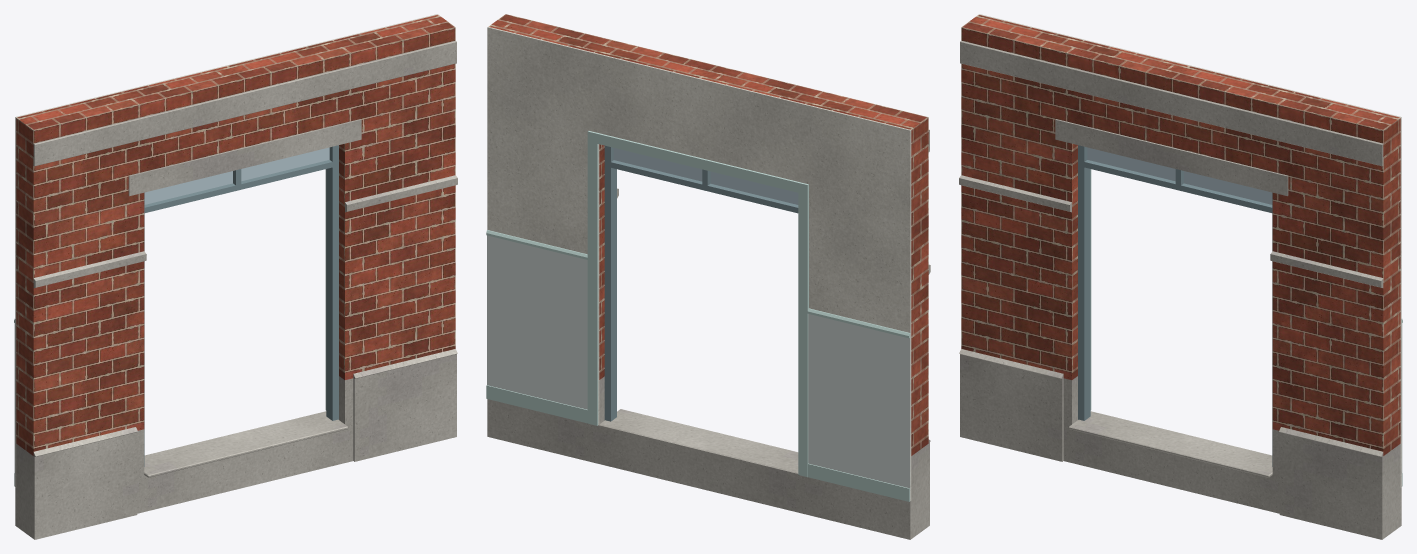
File: w_entry.glb
The picture shows the model from 3 angles, left to right: view 1: azimuth 30°, elevation 25°; view 2: azimuth 150°, elevation 25°; view 3: azimuth 330°, elevation 25°; orthographic projection.
Parts seen in each view (by area): view 1: w_entry_brick, w_entry_concrete, w_entry_frame, w_entry_glass, w_entry_plaster; view 2: w_entry_plaster, w_entry_tile_w, w_entry_concrete, w_entry_brick, w_entry_tile_c, w_entry_frame, w_entry_glass; view 3: w_entry_brick, w_entry_concrete, w_entry_frame, w_entry_glass, w_entry_plaster.
Boxes of the visible parts, x1=… form: w_entry_brick: x1=16, y1=14, x2=455, y2=455; w_entry_concrete: x1=15, y1=40, x2=457, y2=539; w_entry_frame: x1=144, y1=145, x2=338, y2=466; w_entry_glass: x1=144, y1=147, x2=329, y2=204; w_entry_plaster: x1=15, y1=14, x2=437, y2=487; w_entry_plaster: x1=487, y1=27, x2=911, y2=500; w_entry_tile_w: x1=487, y1=235, x2=910, y2=500; w_entry_concrete: x1=487, y1=129, x2=930, y2=539; w_entry_brick: x1=488, y1=14, x2=928, y2=455; w_entry_tile_c: x1=486, y1=131, x2=910, y2=501; w_entry_frame: x1=604, y1=145, x2=798, y2=421; w_entry_glass: x1=613, y1=148, x2=798, y2=204; w_entry_brick: x1=961, y1=14, x2=1400, y2=455; w_entry_concrete: x1=959, y1=40, x2=1401, y2=539; w_entry_frame: x1=1078, y1=145, x2=1272, y2=466; w_entry_glass: x1=1087, y1=147, x2=1272, y2=204; w_entry_plaster: x1=979, y1=14, x2=1401, y2=487.
Bounding box in the file's own units: 4 × 3.7 × 0.38.
Materials: 7 (3 with a texture image).
